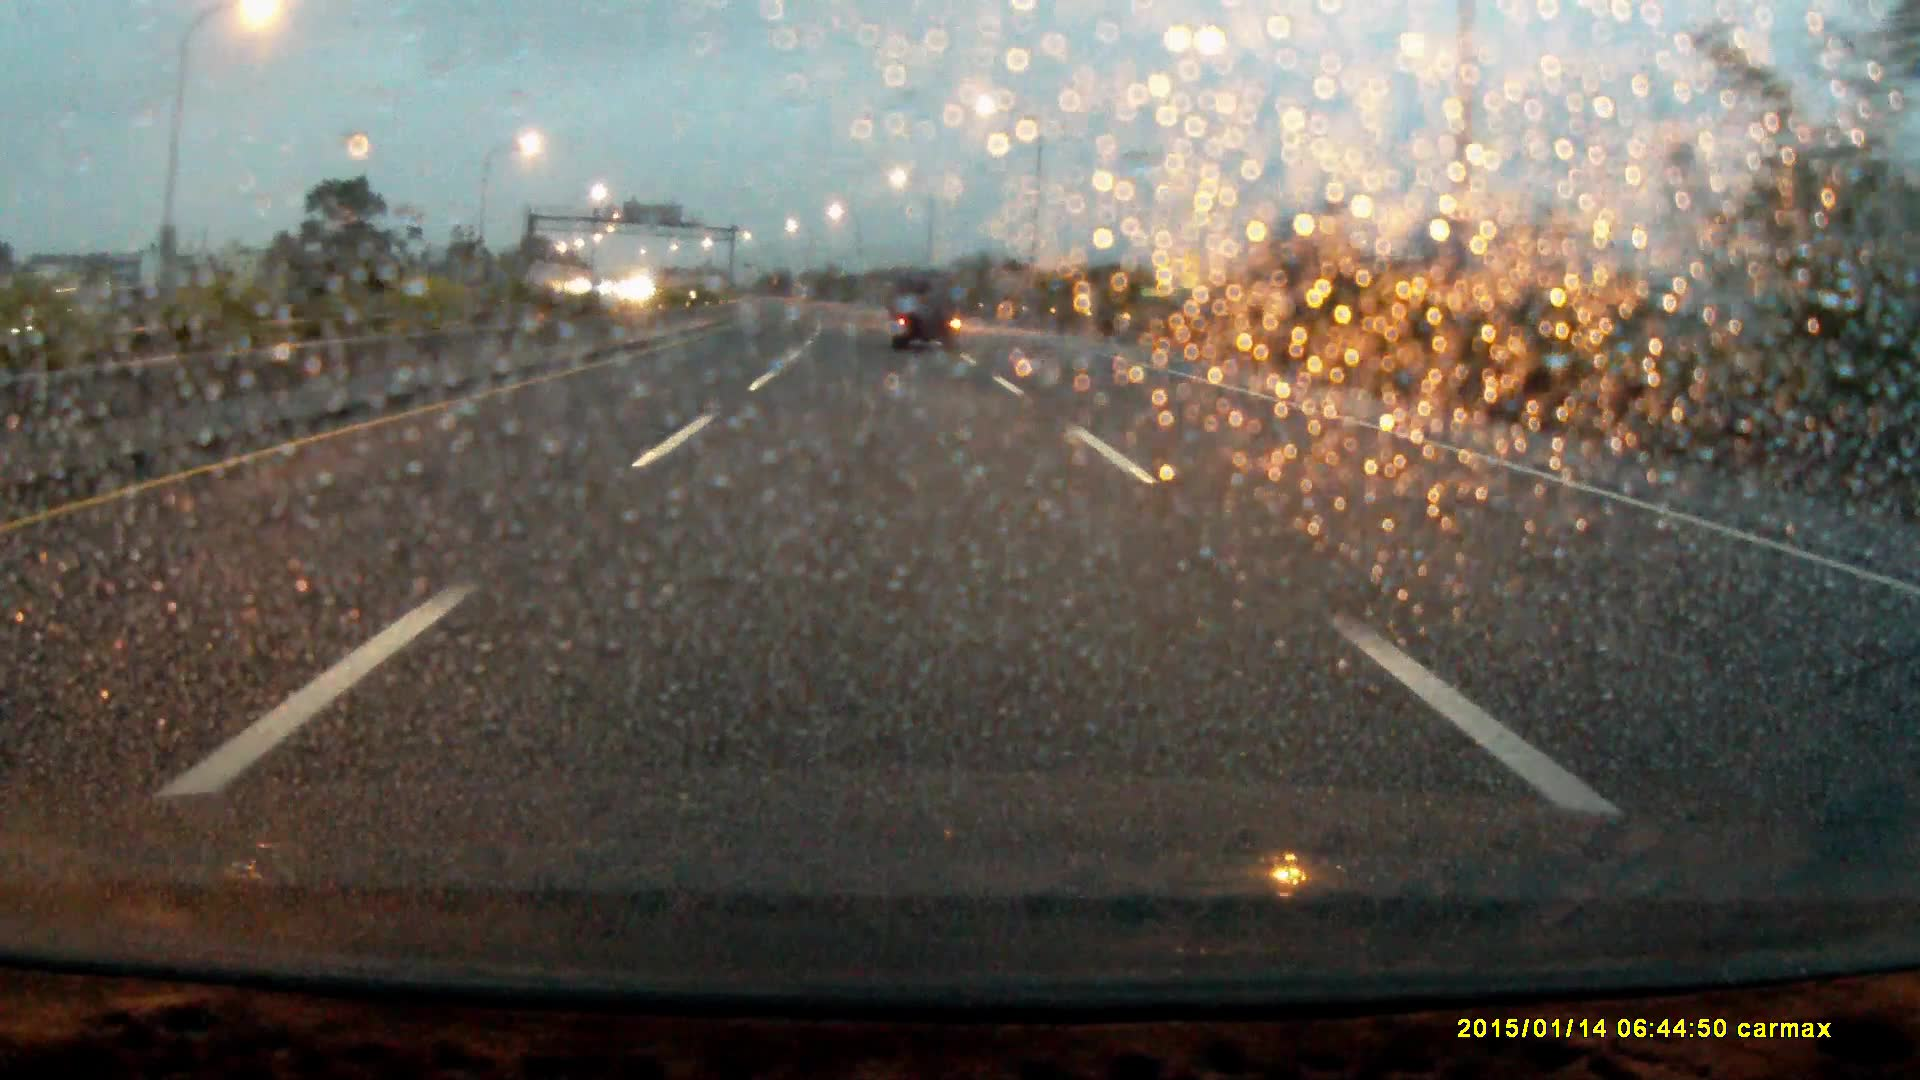vehicle: (891, 270, 964, 353)
